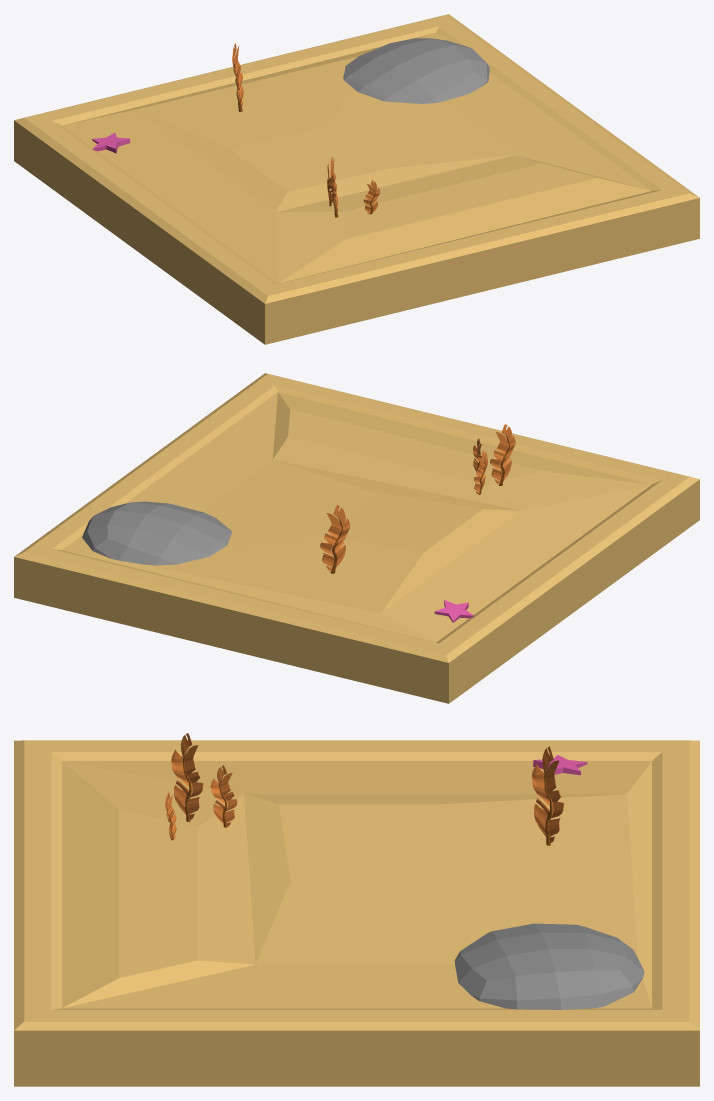
Rendered from block_1.glb.
3 renders of one model, top to bottom at view 1: azimuth 30°, elevation 25°; view 2: azimuth 150°, elevation 25°; view 3: azimuth 270°, elevation 25°, orthographic. The views are drawn at different scales.
Parts seen in each view (by area): view 1: Cube.001; view 2: Cube.001; view 3: Cube.001.
Boxes of the visible parts, left/top/right/bottom form: Cube.001: left=14, top=14, right=699, bottom=344; Cube.001: left=14, top=373, right=699, bottom=703; Cube.001: left=14, top=733, right=699, bottom=1086.
Size of the model in its own units: 12 by 3.78 by 12.
